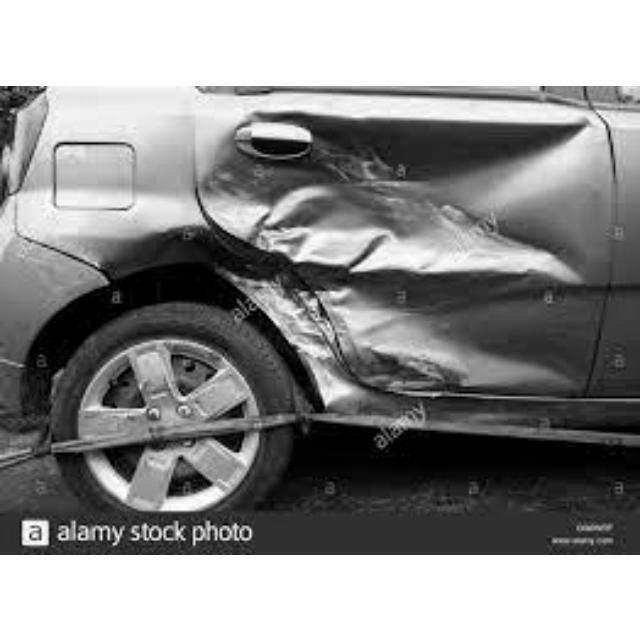doorouter-dent: (196, 100, 594, 400)
